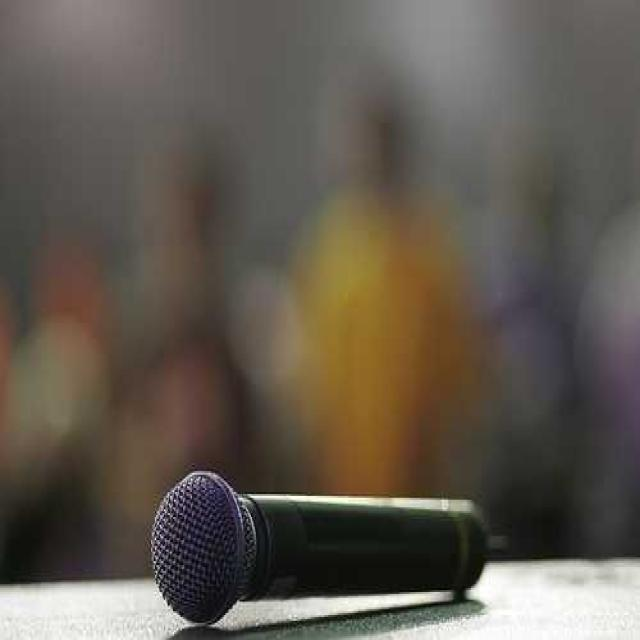microphone: (147, 464, 495, 626)
